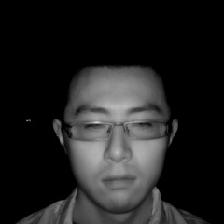normal: (49, 46, 185, 212)
